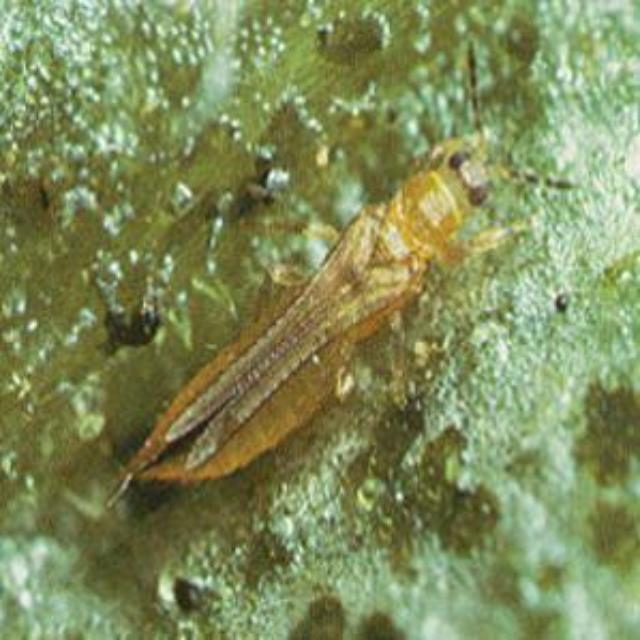melon thrips: (87, 52, 585, 588)
